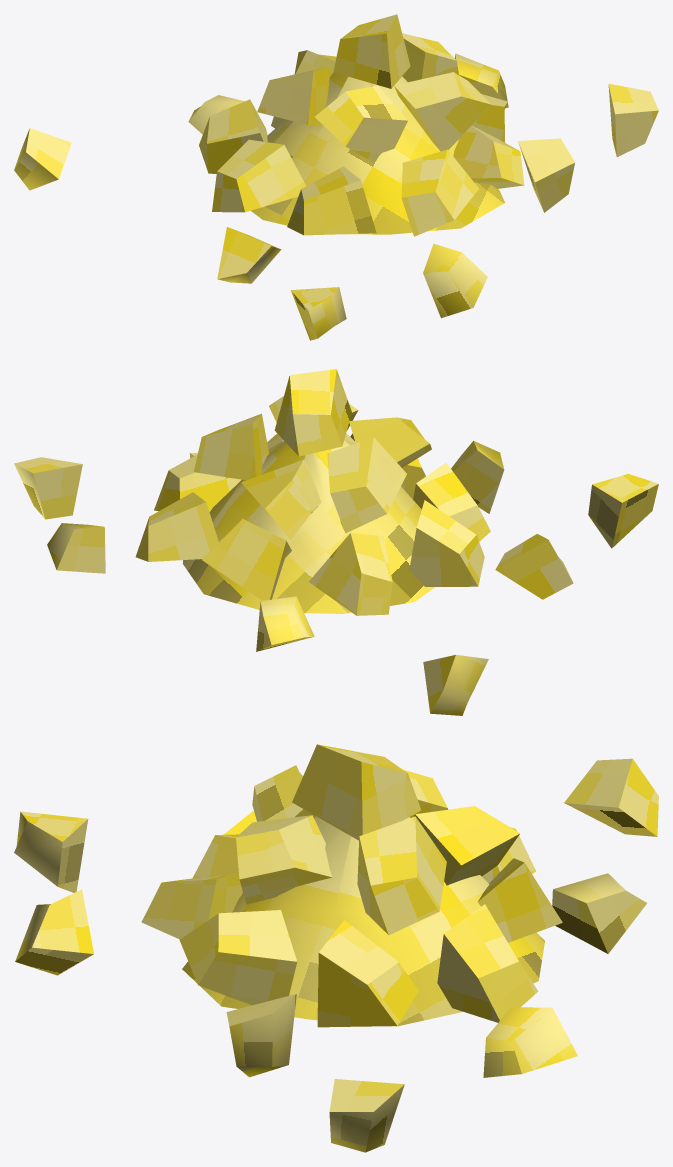
The model's file is ammomaker_Sulfur.fbx.
3 renders of one model, top to bottom at view 1: azimuth 30°, elevation 25°; view 2: azimuth 150°, elevation 25°; view 3: azimuth 270°, elevation 25°, orthographic. The views are drawn at different scales.
Visible parts, largest first — view 1: ammomaker_Sulfur; view 2: ammomaker_Sulfur; view 3: ammomaker_Sulfur.
Boxes of the visible parts, x1,y1,x2,y2 form: ammomaker_Sulfur: [14, 14, 658, 340]; ammomaker_Sulfur: [14, 369, 658, 715]; ammomaker_Sulfur: [14, 744, 658, 1152].
Bounding box in the file's own units: 14.49 × 5.15 × 11.57.
